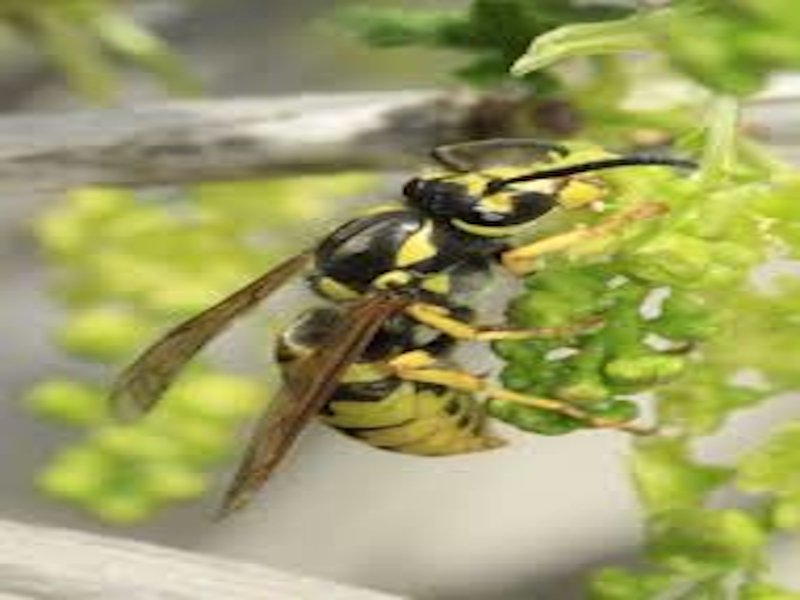chax: (94, 102, 730, 542)
